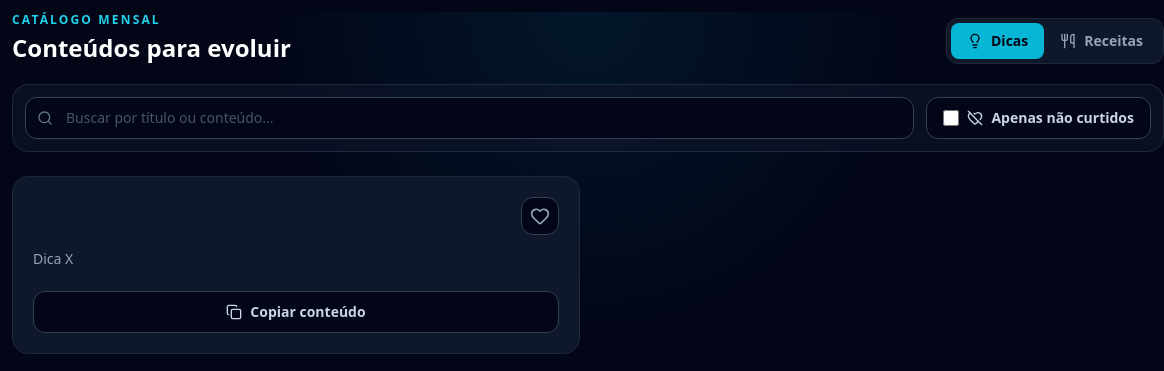
it: CatalogoItens › filtro Apenas não curtidos remove da lista após sucesso da curtida
The image size is (1164, 371).
Check: the text "Dica X" is shown, box top-left (33, 249), bottom-right (73, 268)
Ativa filtro
Click the checkbox labelled "Apenas não curtidos" at point(951, 118), box top-left (943, 110), bottom-right (959, 126)
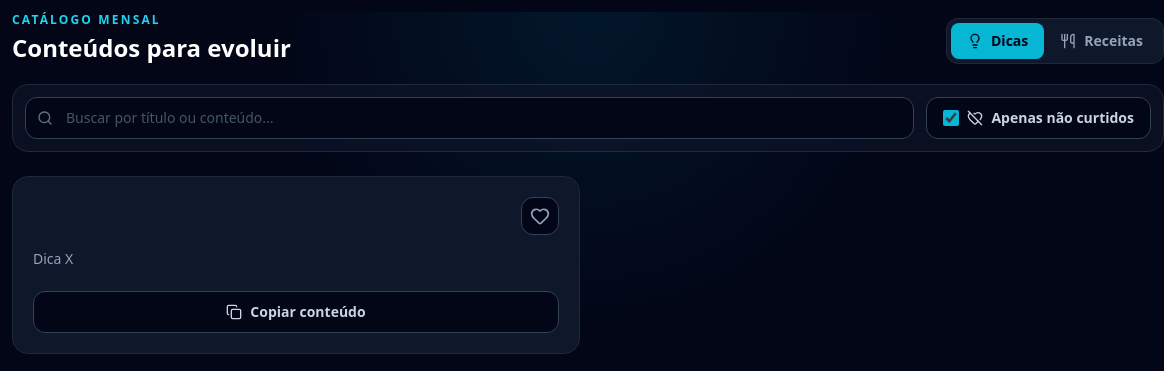
Click the button named "Curtir Dica X" at point(540, 216), box top-left (521, 197), bottom-right (559, 235)
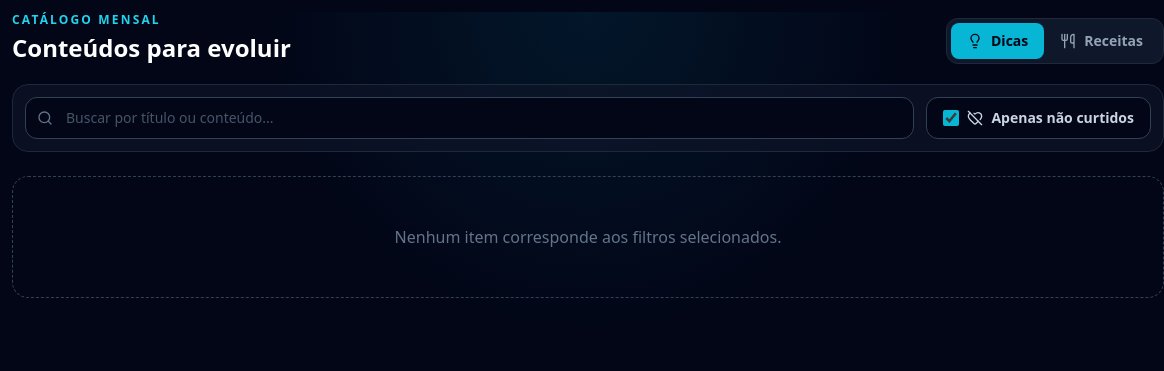
Check: the text "Dica X" is gone
Desativa filtro
Click the checkbox labelled "Apenas não curtidos" at point(951, 118), box top-left (943, 110), bottom-right (959, 126)
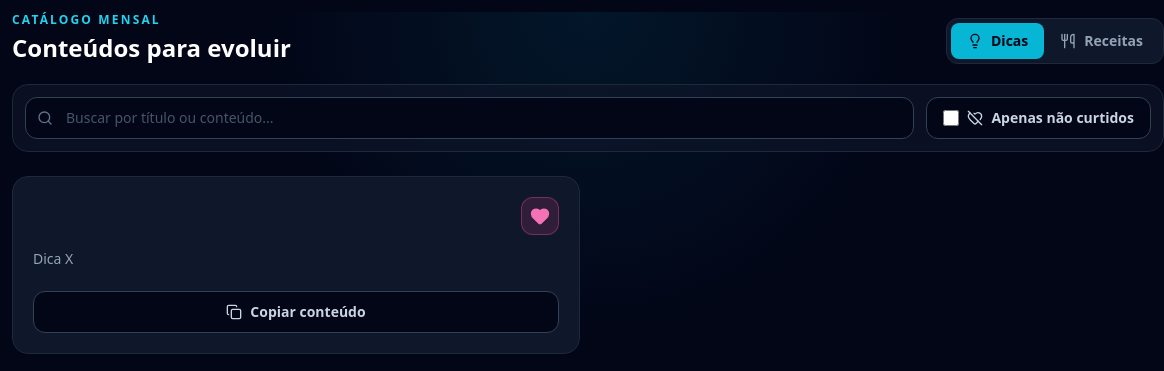
Check: the text "Dica X" is shown, box top-left (33, 249), bottom-right (73, 268)
Check: the button named "já curtido" is disabled, box top-left (521, 197), bottom-right (559, 235)
